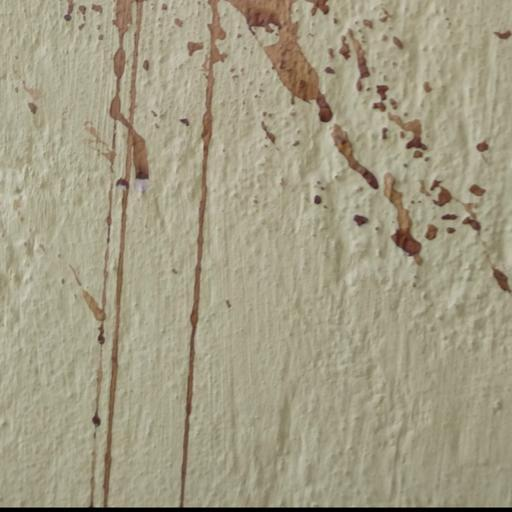stain: (231, 0, 511, 312), (67, 0, 229, 512)
